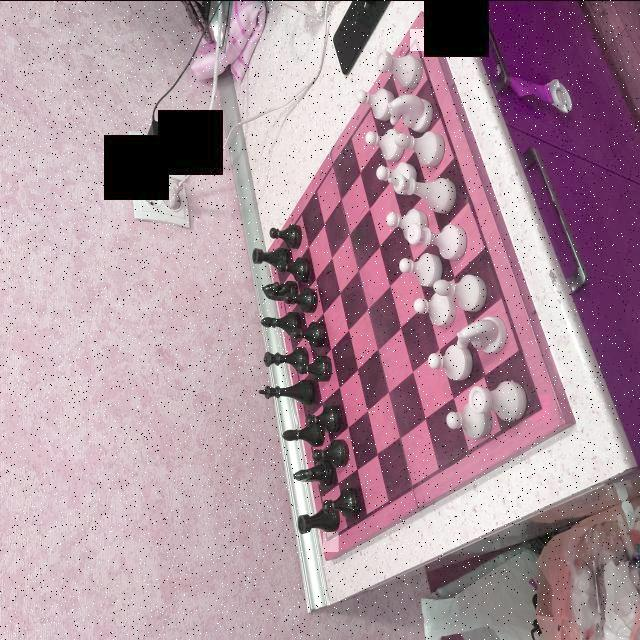chess-table-corners: (530, 394, 550, 420), (410, 28, 425, 50), (324, 531, 339, 551)
